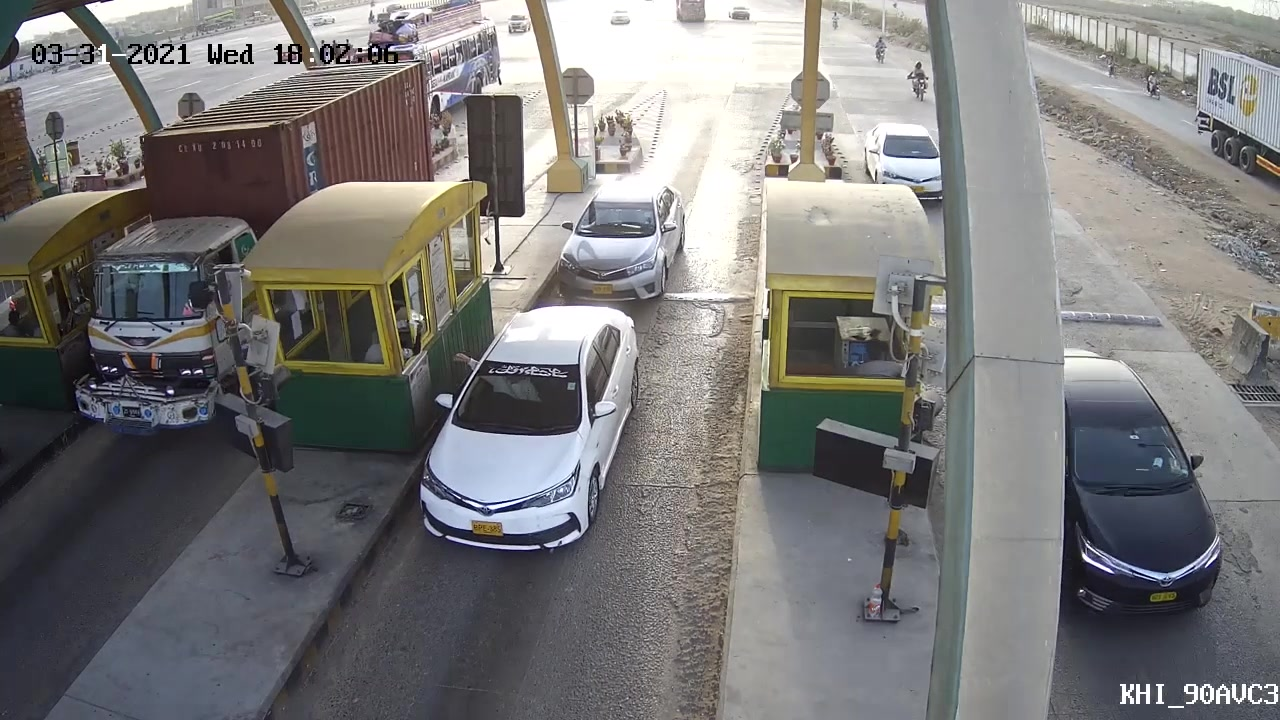F1: (403, 302, 647, 556), (553, 172, 690, 306)
